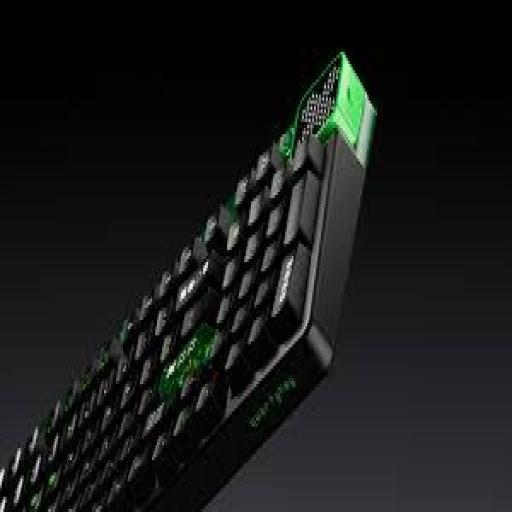KEYBOARD-2: (0, 52, 374, 509)
